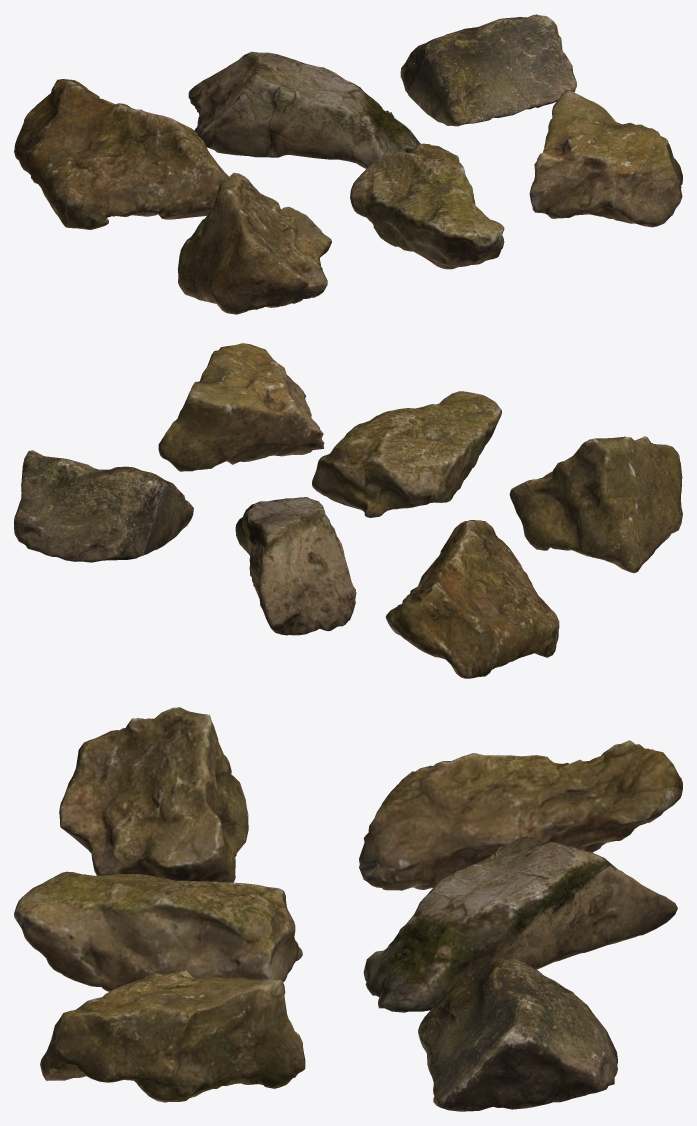
File: rock_moss_set_01_web.glb
3 renders of one model, top to bottom at view 1: azimuth 30°, elevation 25°; view 2: azimuth 150°, elevation 25°; view 3: azimuth 270°, elevation 25°, orthographic. The views are drawn at different scales.
Visible parts, largest first — view 1: rock_moss_set_01_rock01, rock_moss_set_01_rock02, rock_moss_set_01_rock06, rock_moss_set_01_rock04, rock_moss_set_01_rock03, rock_moss_set_01_rock05; view 2: rock_moss_set_01_rock04, rock_moss_set_01_rock01, rock_moss_set_01_rock05, rock_moss_set_01_rock03, rock_moss_set_01_rock06, rock_moss_set_01_rock02; view 3: rock_moss_set_01_rock01, rock_moss_set_01_rock02, rock_moss_set_01_rock05, rock_moss_set_01_rock04, rock_moss_set_01_rock06, rock_moss_set_01_rock03.
Boxes of the visible parts, x1,y1,x2,y2 form: rock_moss_set_01_rock01: (14, 79, 228, 229); rock_moss_set_01_rock02: (188, 51, 420, 168); rock_moss_set_01_rock06: (529, 89, 682, 227); rock_moss_set_01_rock04: (177, 172, 331, 314); rock_moss_set_01_rock03: (400, 14, 576, 126); rock_moss_set_01_rock05: (350, 143, 504, 269); rock_moss_set_01_rock04: (509, 436, 682, 573); rock_moss_set_01_rock01: (385, 520, 559, 678); rock_moss_set_01_rock05: (312, 391, 501, 517); rock_moss_set_01_rock03: (14, 450, 193, 562); rock_moss_set_01_rock06: (158, 343, 324, 471); rock_moss_set_01_rock02: (235, 497, 356, 635); rock_moss_set_01_rock01: (359, 740, 682, 890); rock_moss_set_01_rock02: (363, 836, 677, 1012); rock_moss_set_01_rock05: (14, 871, 302, 991); rock_moss_set_01_rock04: (59, 707, 248, 882); rock_moss_set_01_rock06: (40, 970, 305, 1102); rock_moss_set_01_rock03: (418, 956, 617, 1111).
Bounding box in the file's own units: 8 × 1.77 × 6.94.
1 material, 1 textured.
